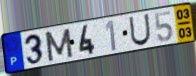1: (105, 19, 117, 53)
3: (23, 32, 47, 67)
4: (78, 23, 97, 56)
5: (153, 9, 174, 43)
M: (43, 27, 75, 63)
U: (128, 13, 152, 48)
